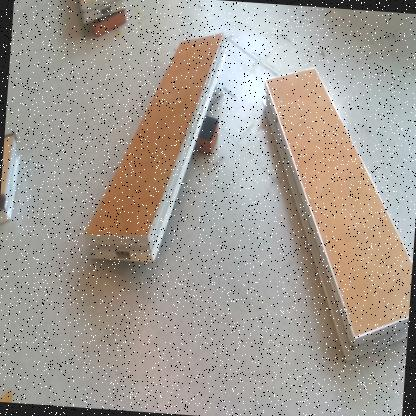Stairs: (263, 66, 414, 364), (86, 33, 227, 261), (1, 135, 22, 227), (80, 1, 126, 24)
